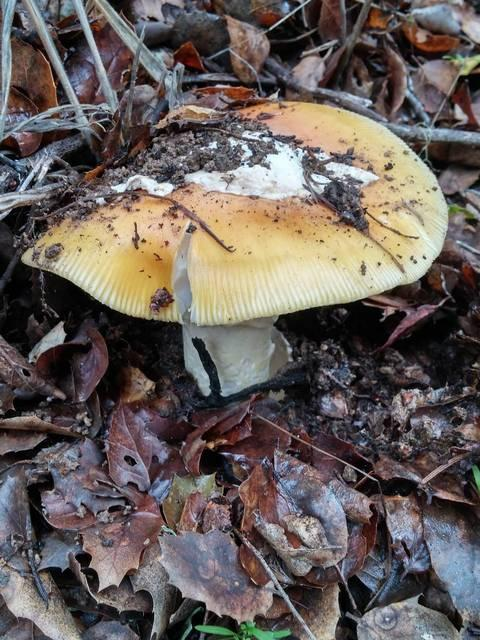edible_mushroom: (19, 97, 449, 404)
